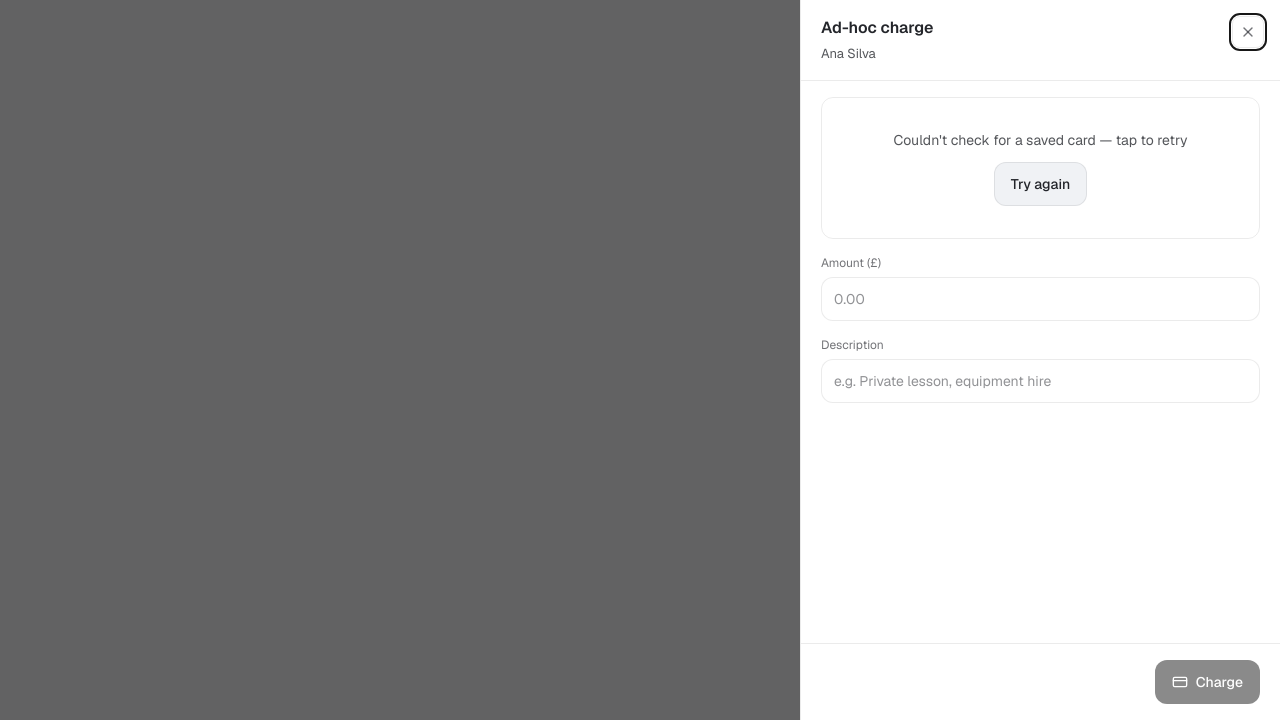
Test case: AdhocChargeDrawer — 'no card' and 'couldn't check' are different states › recovers on retry: a failure followed by a success shows the real card
expect the text "Couldn't check for a saved card — tap to retry" is shown: met, box top-left (894, 130), bottom-right (1188, 150)
Click the button "Try again": (1041, 184) top-left (994, 162), bottom-right (1087, 206)
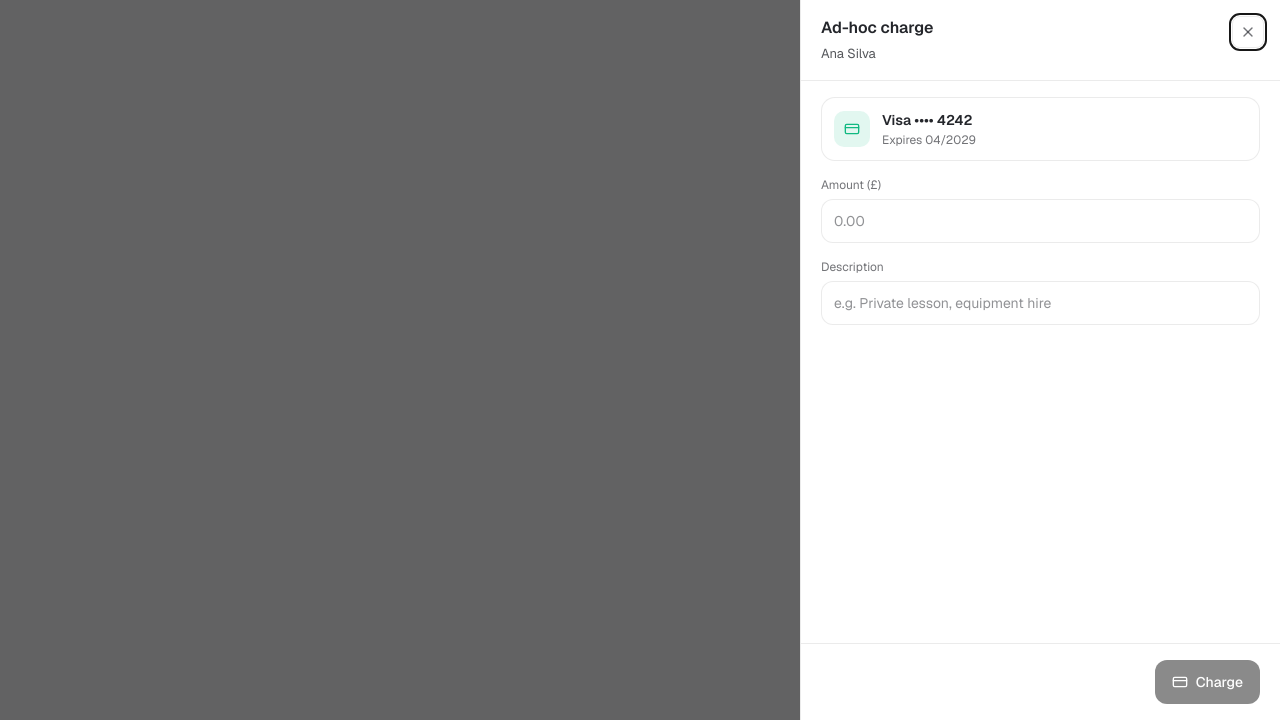
expect the text "visa •••• 4242" is shown: met, box top-left (882, 110), bottom-right (972, 128)
expect the text "Couldn't check for a saved card" is gone: met
